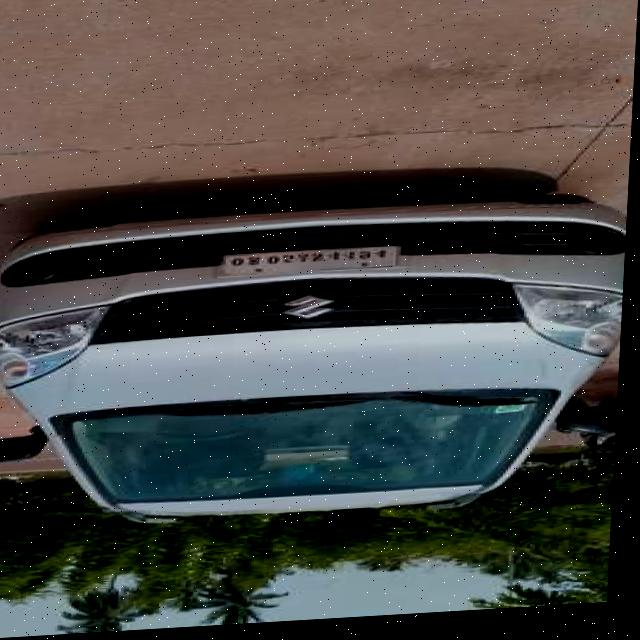plate: (221, 249, 403, 281)
